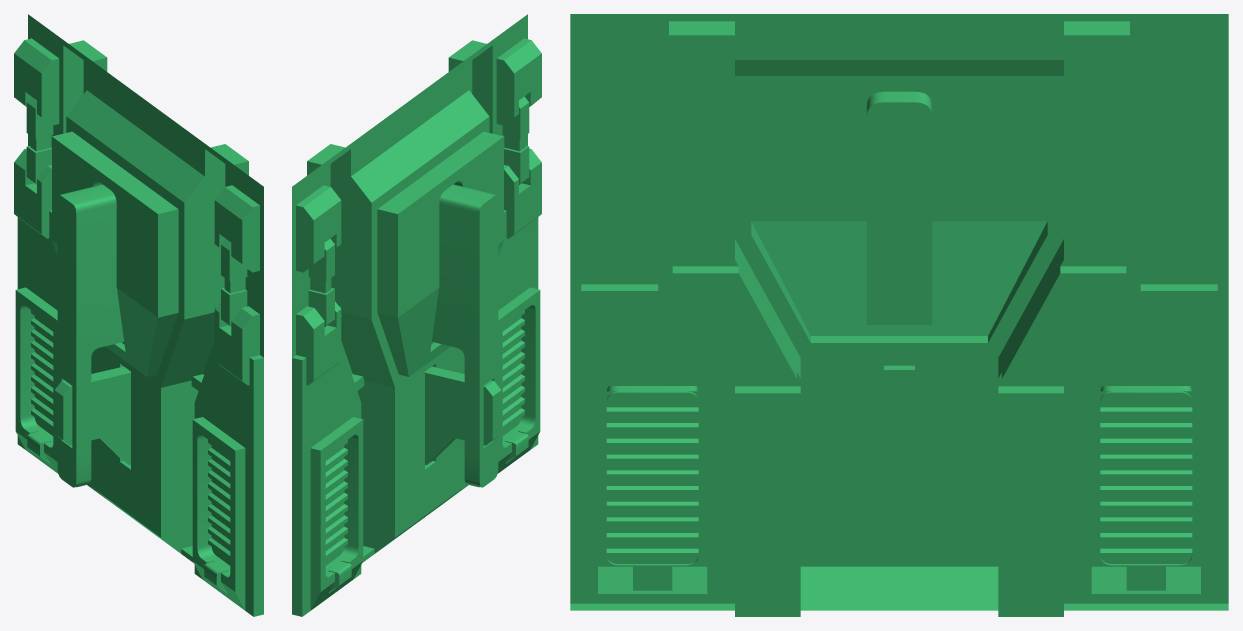
File: Wall_B_4x4m.FBX
3 views of the same model, side by side, from view 1: azimuth 30°, elevation 25°; view 2: azimuth 150°, elevation 25°; view 3: azimuth 270°, elevation 25° (orthographic). The views are drawn at different scales.
Parts seen in each view (by area): view 1: Wall_B_4x4m; view 2: Wall_B_4x4m; view 3: Wall_B_4x4m.
Boxes of the visible parts, x1,y1,x2,y2 form: Wall_B_4x4m: (14,14,263,616); Wall_B_4x4m: (292,14,541,616); Wall_B_4x4m: (570,14,1228,616).
Bounding box in the file's own units: 105 × 400 × 400.
